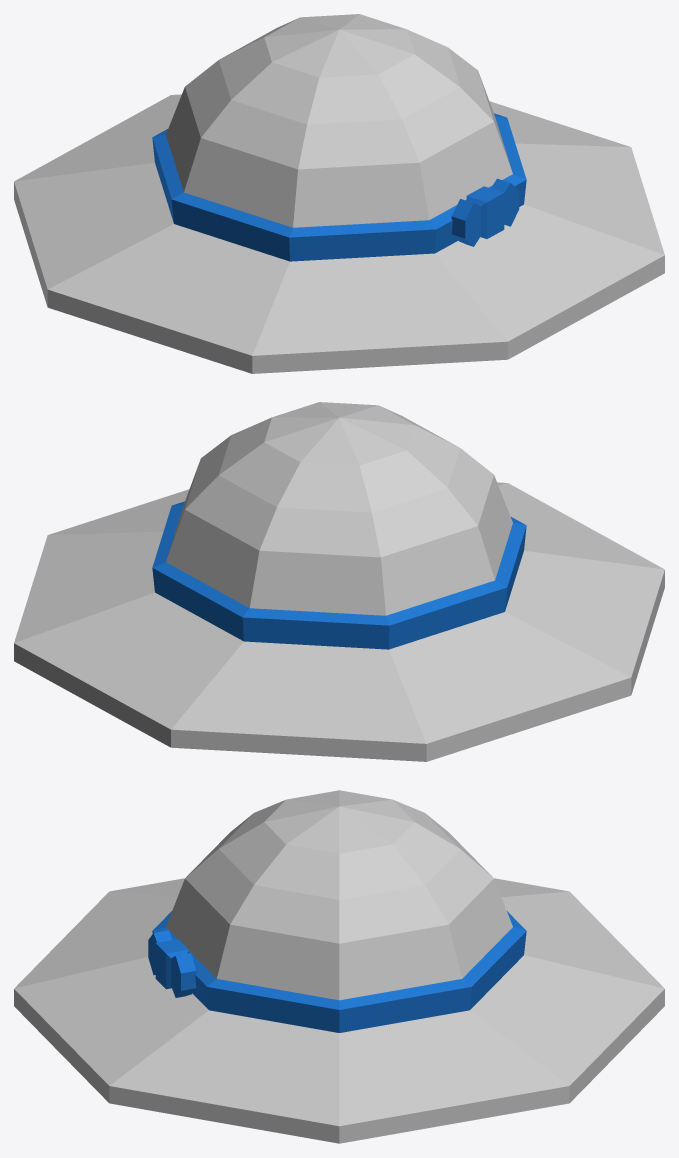
Rendered from SM_hat.fbx.
3 renders of one model, top to bottom at view 1: azimuth 30°, elevation 25°; view 2: azimuth 150°, elevation 25°; view 3: azimuth 270°, elevation 25°, orthographic. The views are drawn at different scales.
Parts seen in each view (by area): view 1: Cylinder_5; view 2: Cylinder_5; view 3: Cylinder_5.
Boxes of the visible parts, x1=… form: Cylinder_5: x1=14, y1=14, x2=664, y2=373; Cylinder_5: x1=14, y1=402, x2=664, y2=761; Cylinder_5: x1=14, y1=790, x2=664, y2=1143.
Bounding box in the file's own units: 44.55 × 15.08 × 44.55.
